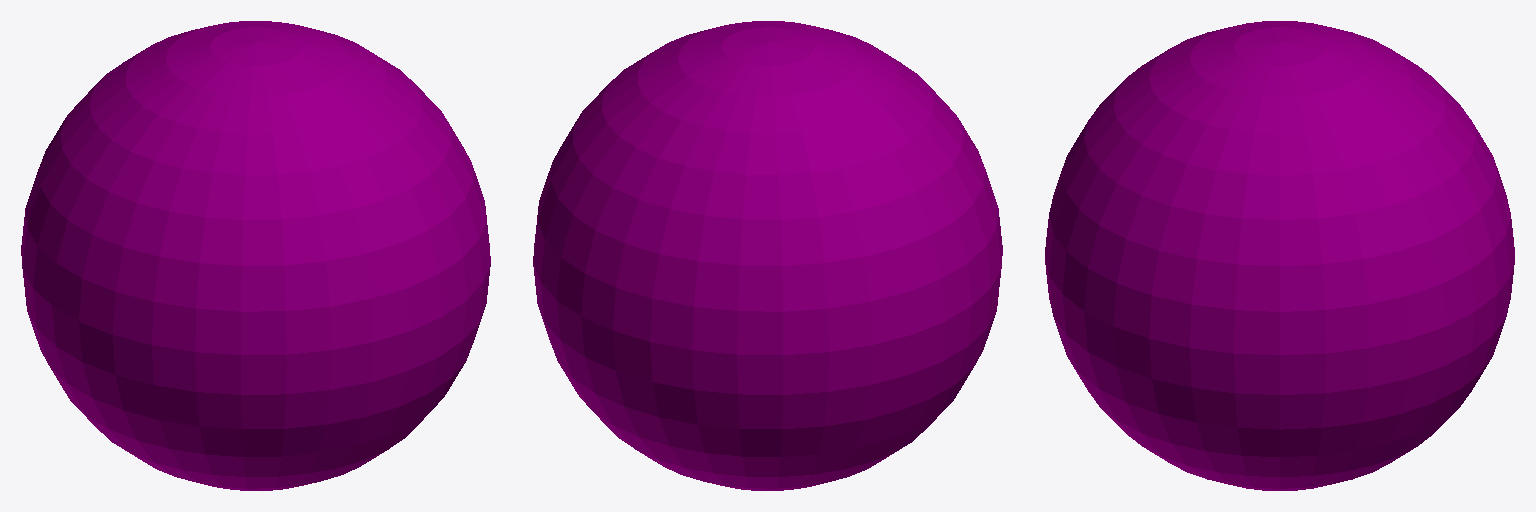
Rendered from specularsphere.obj.
The picture shows the model from 3 angles: view 1: azimuth 30°, elevation 25°; view 2: azimuth 150°, elevation 25°; view 3: azimuth 270°, elevation 25°; orthographic projection.
Visible parts, largest first — view 1: Sphere; view 2: Sphere; view 3: Sphere.
Part boxes in pixels (left/top/right/bottom): Sphere: left=21, top=21, right=490, bottom=490; Sphere: left=533, top=21, right=1002, bottom=490; Sphere: left=1045, top=21, right=1514, bottom=490.
Size of the model in its own units: 1.07 by 1.07 by 1.07.